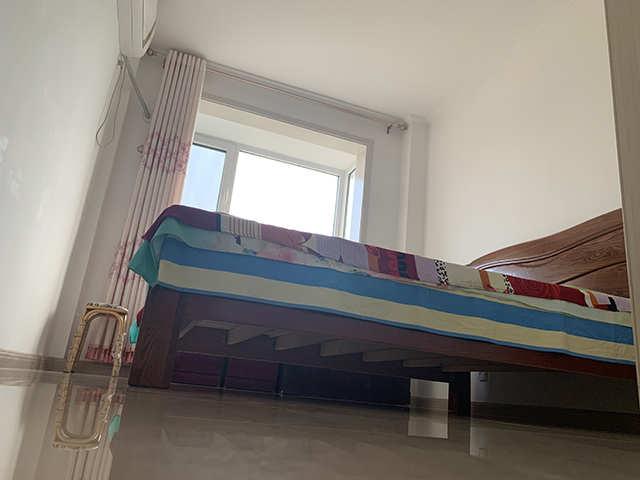bed: (123, 203, 639, 419)
curtain: (81, 47, 209, 368)
stool: (63, 300, 130, 378)
